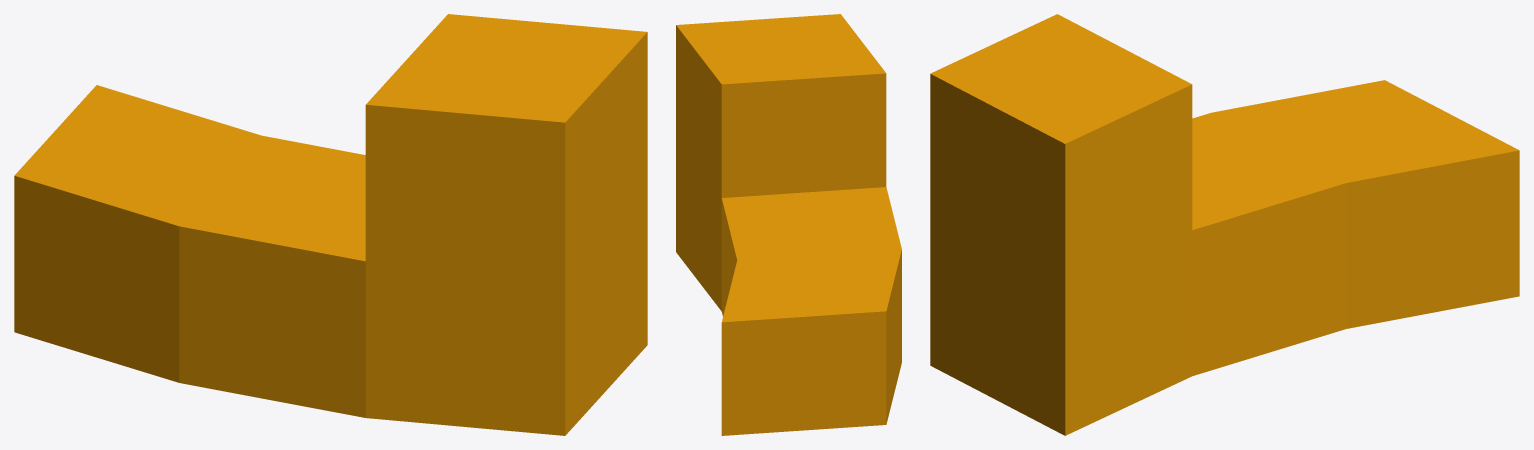
The model's file is Piece1.fbx.
3 views of the same model, side by side, from view 1: azimuth 30°, elevation 25°; view 2: azimuth 150°, elevation 25°; view 3: azimuth 270°, elevation 25° (orthographic). The views are drawn at different scales.
Visible parts, largest first — view 1: Block1; view 2: Block1; view 3: Block1.
Boxes of the visible parts, x1,y1,x2,y2 form: Block1: [14, 14, 647, 435]; Block1: [676, 14, 901, 435]; Block1: [930, 14, 1519, 435].
Bounding box in the file's own units: 232 × 150 × 275.
